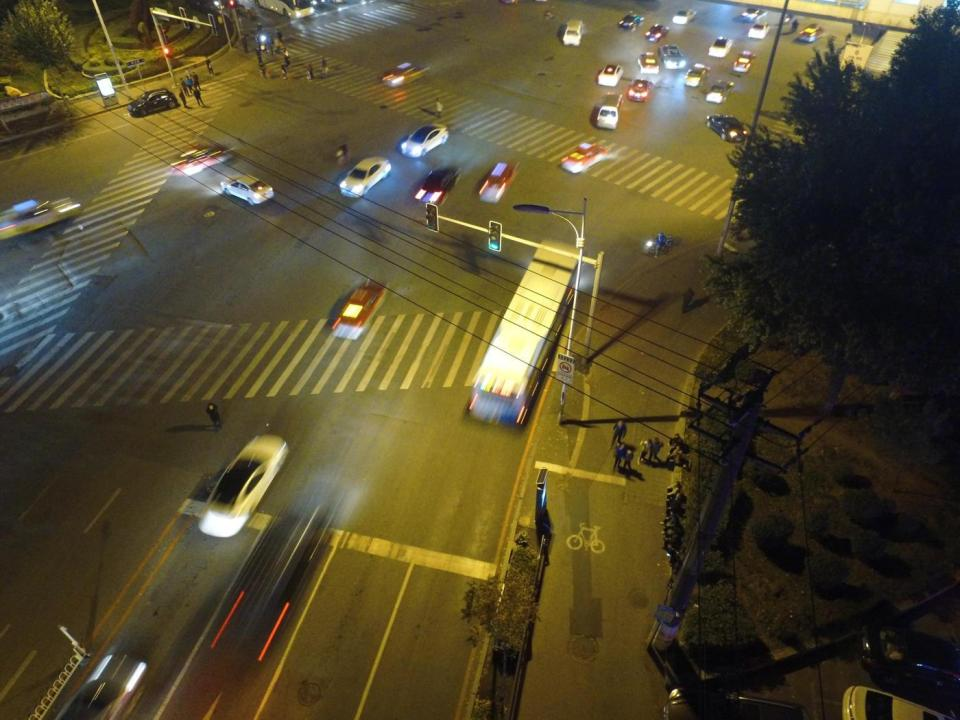bus: (467, 239, 582, 427)
car: (226, 510, 313, 652), (198, 429, 288, 536), (855, 617, 960, 684), (56, 652, 146, 720), (661, 683, 813, 720), (0, 197, 87, 241), (330, 280, 391, 342), (338, 150, 393, 200), (418, 162, 460, 216), (172, 140, 239, 173), (217, 169, 273, 207), (473, 159, 517, 205), (397, 120, 452, 154), (562, 138, 608, 174), (126, 87, 177, 116), (708, 112, 748, 142), (382, 64, 426, 82), (659, 44, 685, 71), (624, 76, 652, 101), (732, 48, 756, 77), (618, 9, 646, 31), (598, 61, 623, 85), (709, 34, 734, 58), (709, 79, 733, 103), (644, 22, 671, 42), (738, 3, 766, 22), (634, 51, 659, 71), (670, 8, 699, 25), (800, 24, 825, 43), (686, 62, 706, 85), (750, 19, 770, 39)
van: (596, 90, 624, 131), (561, 18, 587, 47)
